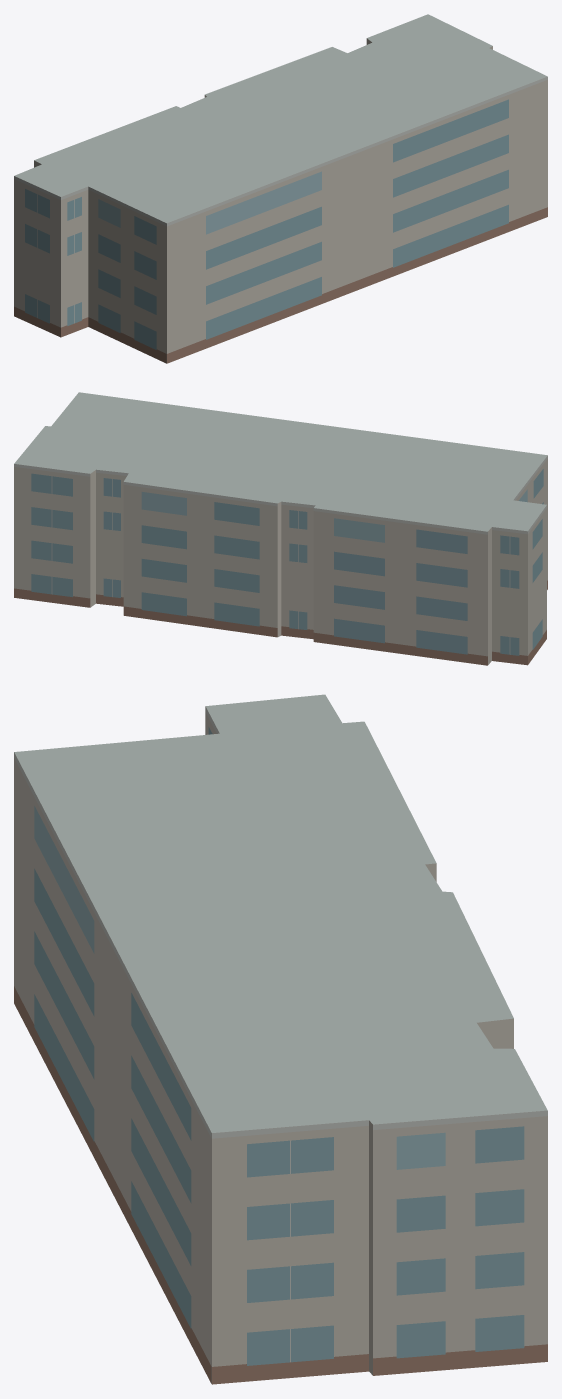
File: survey-upis-32952972.glb
3 views of the same model, one above another, from view 1: azimuth 30°, elevation 25°; view 2: azimuth 150°, elevation 25°; view 3: azimuth 270°, elevation 25° (orthographic). The views are drawn at different scales.
Visible parts, largest first — view 1: survey-upis-32952972.tmp; view 2: survey-upis-32952972.tmp; view 3: survey-upis-32952972.tmp.
Boxes of the visible parts, bbox=[...] form: survey-upis-32952972.tmp: bbox=[14, 14, 547, 363]; survey-upis-32952972.tmp: bbox=[14, 392, 547, 665]; survey-upis-32952972.tmp: bbox=[14, 694, 547, 1384].
Bounding box in the file's own units: 41.19 × 11 × 21.18.
